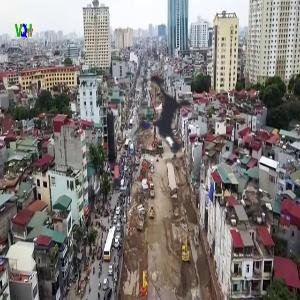drone: (90, 47, 233, 190)
